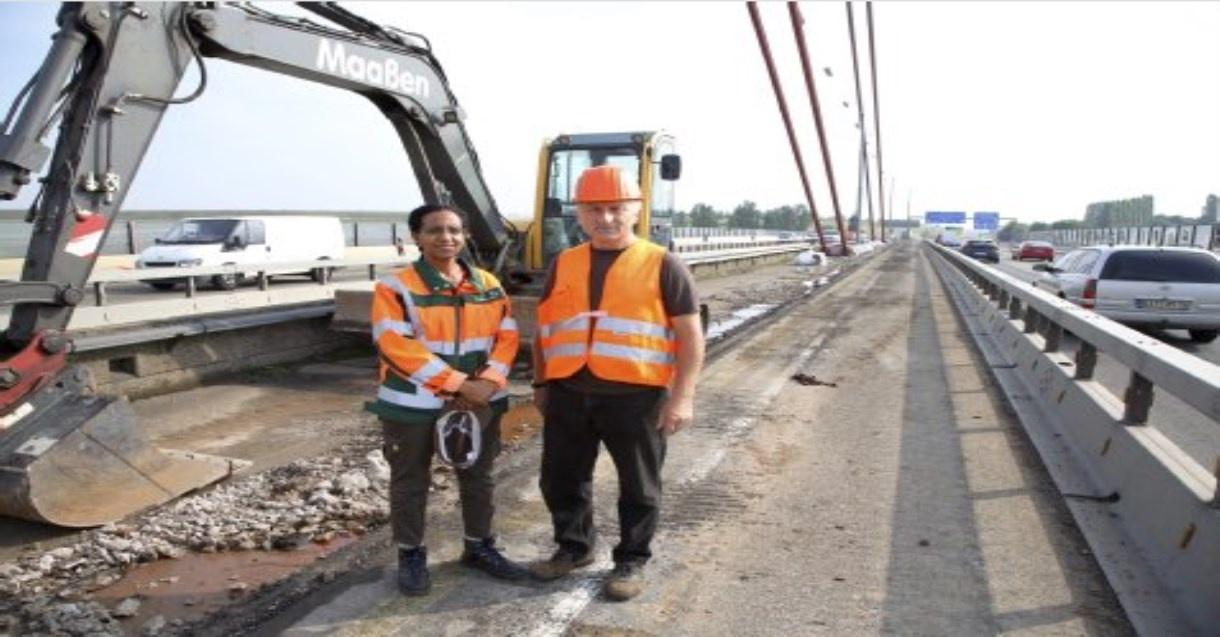none: (407, 193, 469, 268)
yellow: (568, 158, 647, 250)
